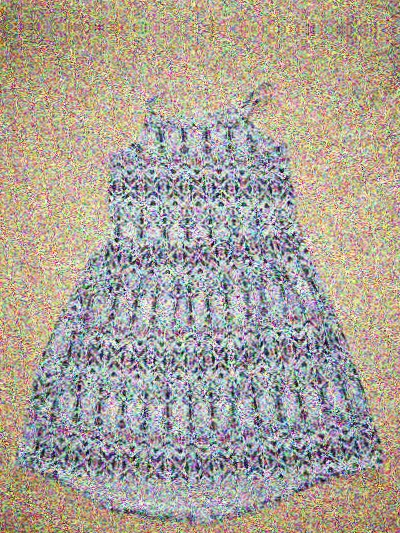Dress: (0, 63, 400, 531)
